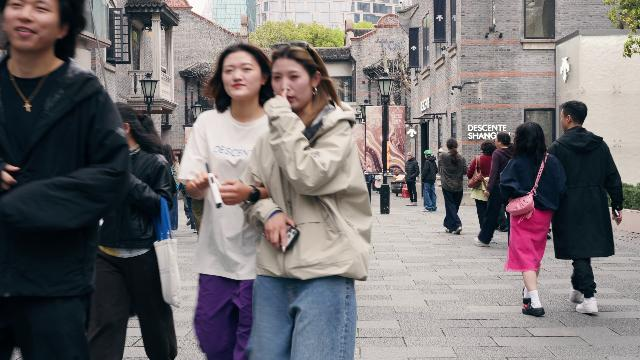person: (0, 0, 131, 360), (242, 41, 374, 360), (184, 27, 279, 360), (88, 103, 179, 360), (547, 100, 625, 315), (498, 122, 566, 317), (473, 131, 512, 248), (436, 138, 470, 235), (466, 140, 496, 233), (401, 144, 419, 205), (421, 149, 438, 212), (374, 169, 382, 194)
